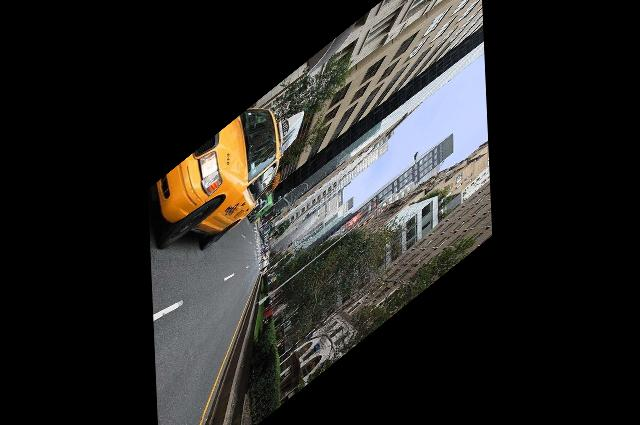taxi: (143, 109, 285, 248)
